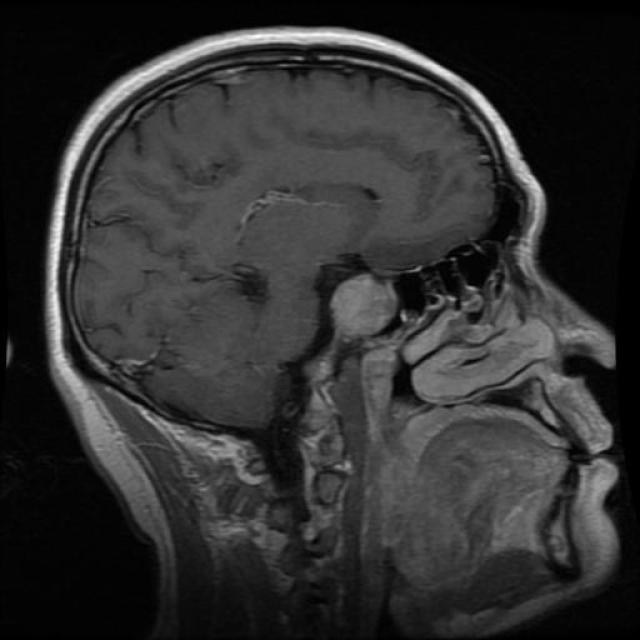pituitary: (320, 254, 402, 359)
